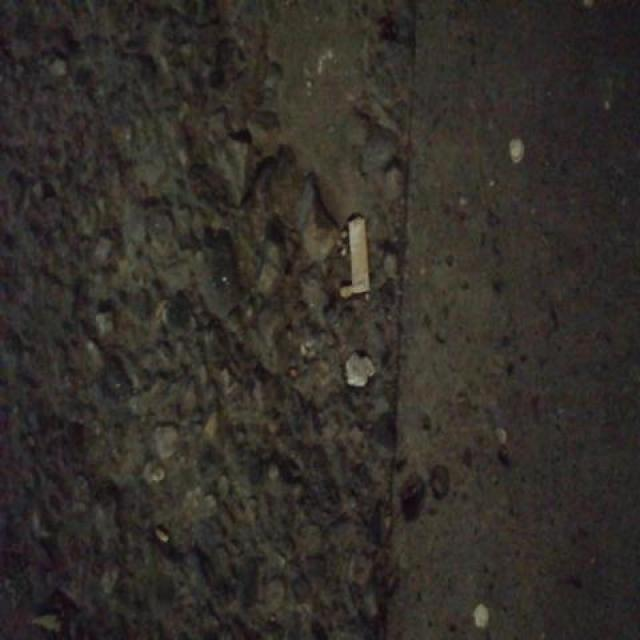non-organic waste: (345, 210, 375, 302)
